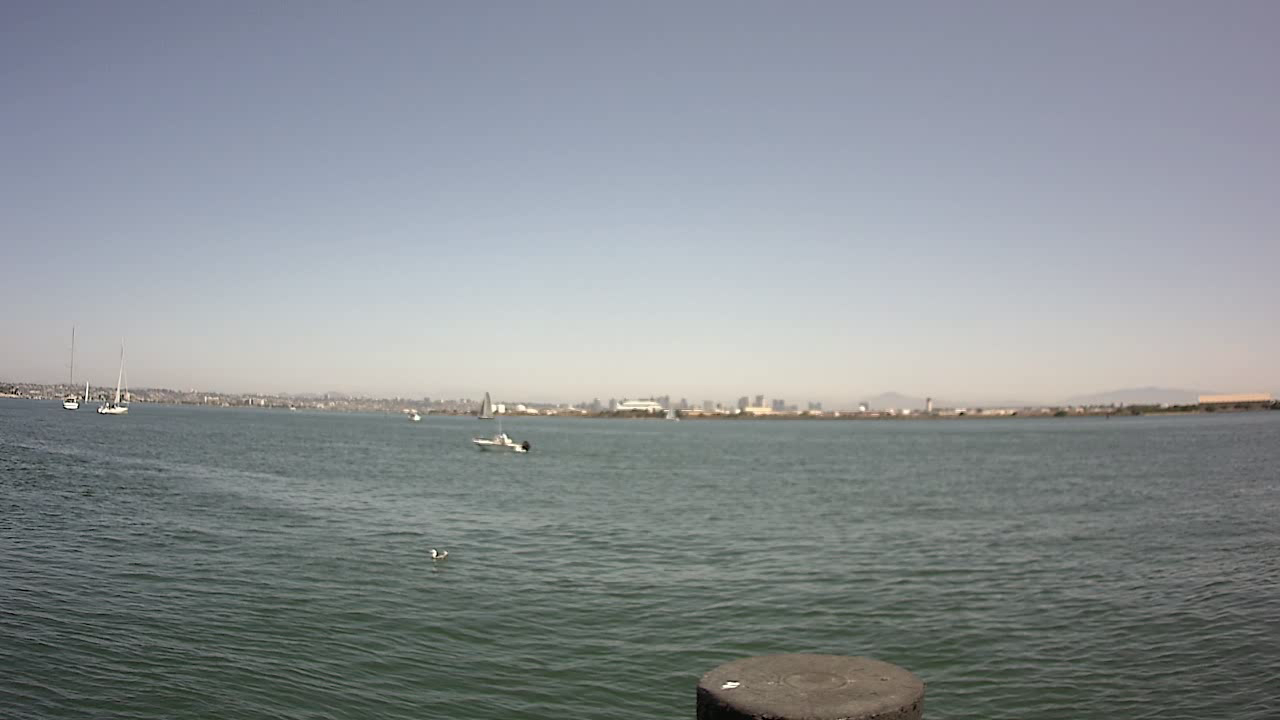target: (467, 422, 540, 459)
